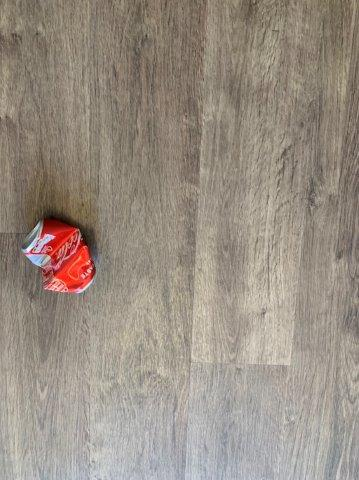kaleng: (23, 218, 95, 293)
